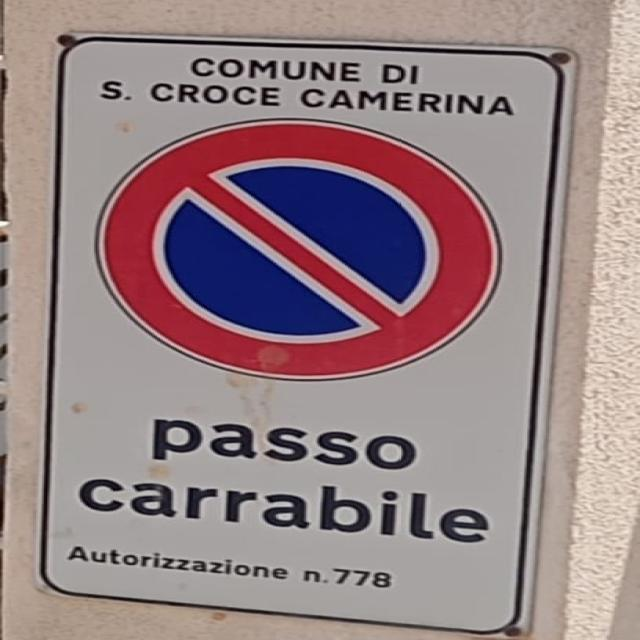forb_stopping: (92, 119, 510, 384)
